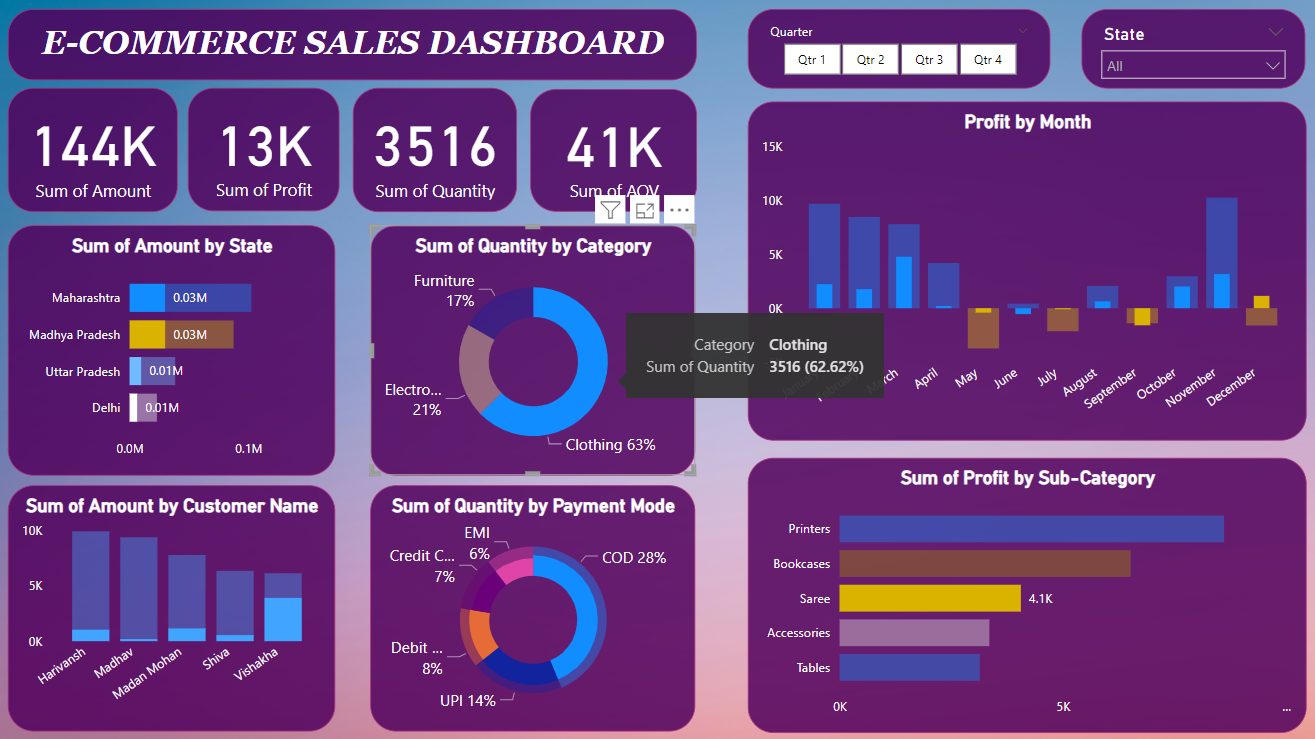

Layout of this report page (visuals, bound fields, positions):
{"tool":"powerbi","page":{"name":"Page 1","canvas":[1280,720],"ordinal":0},"visuals":[{"type":"textbox","box":[13.3,14.5,664.5,68.7],"z":0},{"type":"columnChart","title":"Profit by Month","fields":{"Category":["Orders.Order Date.Variation.Date Hierarchy.Month"],"Y":["Sum(Details.Profit)"]},"box":[727.2,103.7,539.1,326.8],"z":1000},{"type":"barChart","fields":{"Category":["Details.Sub-Category"],"Y":["Sum(Details.Profit)"]},"box":[726,445,539.1,266.5],"z":2000},{"type":"donutChart","fields":{"Category":["Details.Category"],"Y":["Sum(Details.Quantity)"]},"box":[363,223.1,313.6,241.2],"z":3000},{"type":"donutChart","title":"Sum of Quantity by Payment Mode","fields":{"Y":["Sum(Details.Quantity)"],"Category":["Details.PaymentMode"]},"box":[362.5,473.9,313.6,238.6],"z":4000},{"type":"card","fields":{"Values":["Sum(Details.Amount)"]},"box":[13,91,164,120],"z":5000},{"type":"card","fields":{"Values":["Sum(Details.Quantity)"]},"box":[346,90,158,120],"z":6000},{"type":"card","fields":{"Values":["Sum(Details.Profit)"]},"box":[187,91,146,119],"z":7000},{"type":"card","fields":{"Values":["Sum(Details.AOV)"]},"box":[517,92,161,118],"z":8000},{"type":"barChart","fields":{"Category":["Orders.State"],"Y":["Sum(Details.Amount)"]},"box":[13.3,223.1,316,241.2],"z":9000},{"type":"columnChart","title":"Sum of Amount by Customer Name","fields":{"Category":["Orders.CustomerName"],"Y":["Sum(Details.Amount)"]},"box":[13.6,473.9,315.9,238.6],"z":10000},{"type":"slicer","fields":{"Values":["Orders.Order Date.Variation.Date Hierarchy.Quarter"]},"box":[727.2,14.5,291.9,77.2],"z":11000},{"type":"slicer","fields":{"Values":["Orders.State"]},"box":[1049.2,14.5,215.9,77.2],"z":12000}]}

Visuals, with their boxes in screenshot pixels (x1, y1, x2, y2), scaled from the page's 1280x720 canvas onto the 1315x739 screenshot:
textbox: box(14, 15, 696, 85)
"Profit by Month" columnChart: box(747, 106, 1301, 442)
barChart - Details.Sub-Category x Sum(Details.Profit): box(746, 457, 1300, 730)
donutChart - Details.Category x Sum(Details.Quantity): box(373, 229, 695, 477)
"Sum of Quantity by Payment Mode" donutChart: box(372, 486, 695, 731)
card - Sum(Details.Amount): box(13, 93, 182, 217)
card - Sum(Details.Quantity): box(355, 92, 518, 216)
card - Sum(Details.Profit): box(192, 93, 342, 216)
card - Sum(Details.AOV): box(531, 94, 697, 216)
barChart - Orders.State x Sum(Details.Amount): box(14, 229, 338, 477)
"Sum of Amount by Customer Name" columnChart: box(14, 486, 339, 731)
slicer - Orders.Order Date.Variation.Date Hierarchy.Quarter: box(747, 15, 1047, 94)
slicer - Orders.State: box(1078, 15, 1300, 94)
